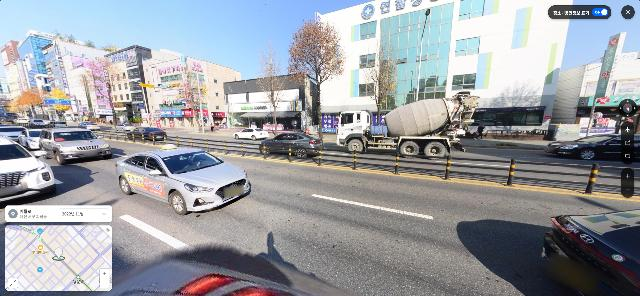other: (284, 16, 346, 136), (253, 33, 289, 137), (358, 35, 399, 120), (86, 57, 121, 125), (180, 62, 209, 133)
